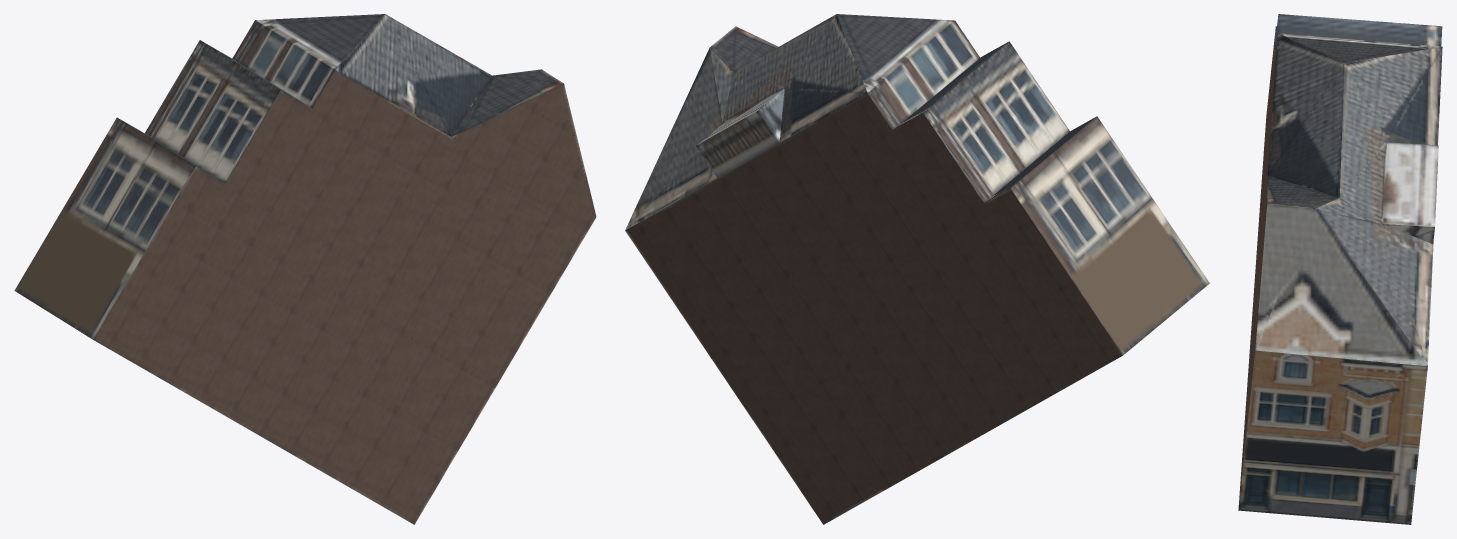
3 renders of one model, left to right at view 1: azimuth 30°, elevation 25°; view 2: azimuth 150°, elevation 25°; view 3: azimuth 270°, elevation 25°, orthographic.
Parts seen in each view (by area): view 1: BAG_0599100000760368 (×4); view 2: BAG_0599100000760368 (×5); view 3: BAG_0599100000760368 (×6).
Part boxes in pixels (left/top/right/bottom): BAG_0599100000760368 (×4): left=14, top=14, right=596, bottom=524; BAG_0599100000760368 (×5): left=625, top=14, right=1209, bottom=524; BAG_0599100000760368 (×6): left=1238, top=14, right=1442, bottom=524.
Size of the model in its own units: 18.79 by 17.18 by 6.74.
1 material, 1 textured.
